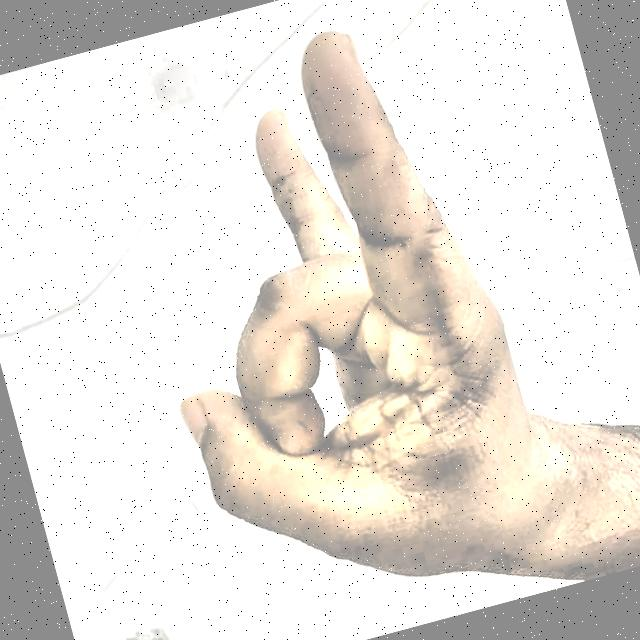Cha: (50, 0, 625, 640)
